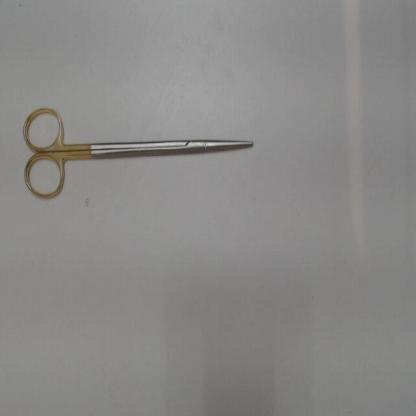7 Metzenbaum Scissors: (20, 100, 258, 204)
